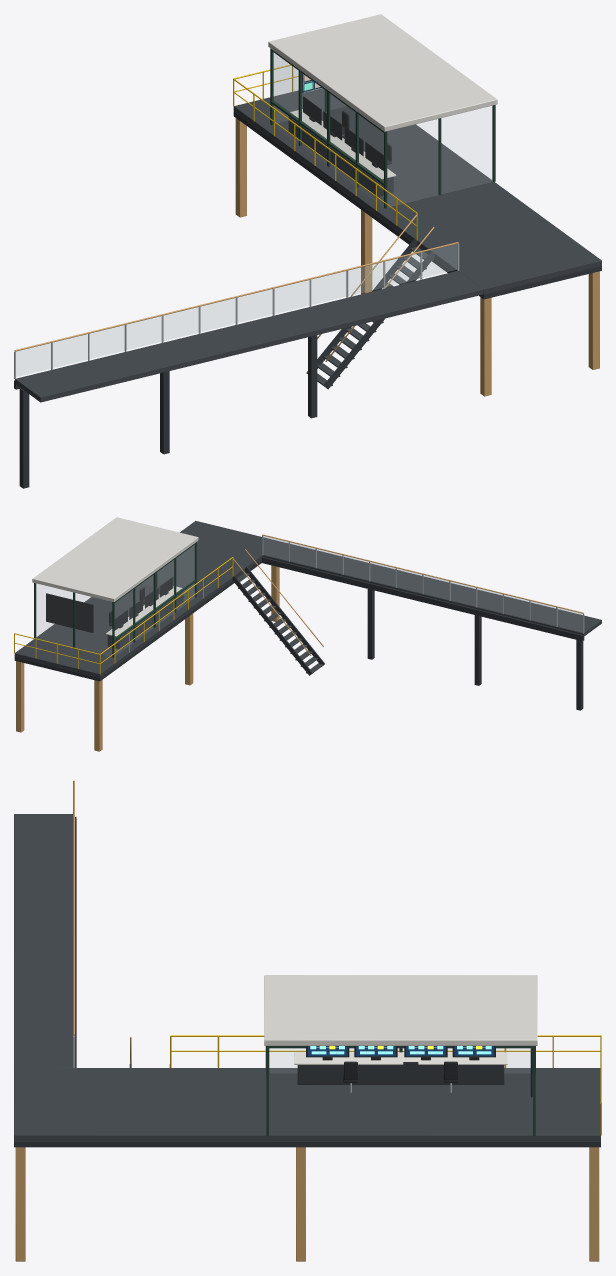
Rendered from control_room.fbx.
The picture shows the model from 3 angles, top to bottom: view 1: azimuth 30°, elevation 25°; view 2: azimuth 150°, elevation 25°; view 3: azimuth 270°, elevation 25°; orthographic projection. The views are drawn at different scales.
Parts seen in each view (by area): view 1: control_room; view 2: control_room; view 3: control_room.
Boxes of the visible parts, box(x1,y1,x2,y2) form: control_room: box(14, 14, 601, 488); control_room: box(14, 517, 601, 751); control_room: box(14, 780, 601, 1261).
Bounding box in the file's own units: 22.92 × 7.49 × 17.63.
